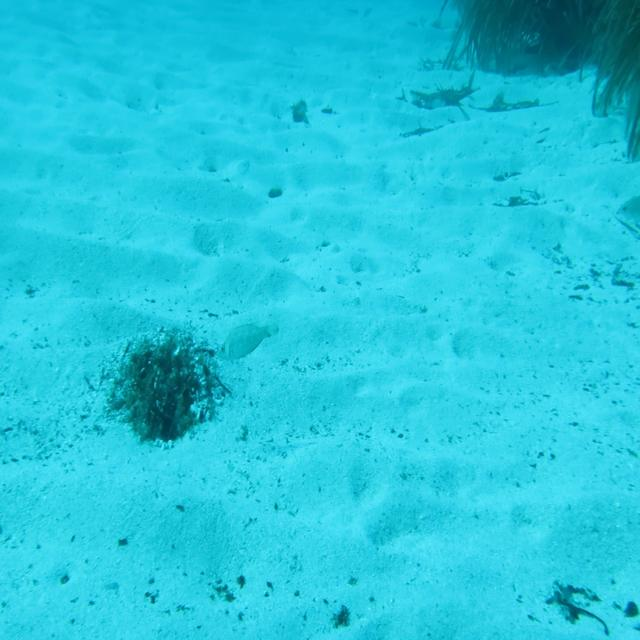BN: (217, 318, 286, 366)
core_nest: (147, 354, 181, 381)
female: (613, 187, 640, 229)
nest: (113, 323, 225, 458)
